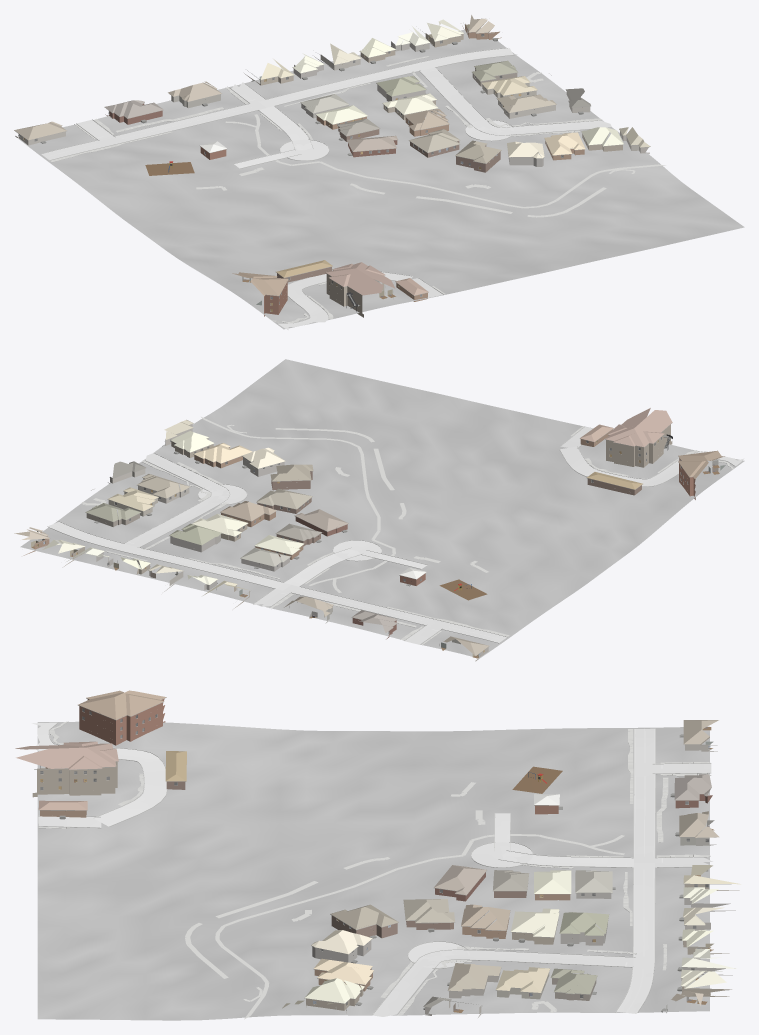
3 views of the same model, one above another, from view 1: azimuth 30°, elevation 25°; view 2: azimuth 150°, elevation 25°; view 3: azimuth 270°, elevation 25° (orthographic). The views are drawn at different scales.
Visible parts, largest first — view 1: ground, roof, concrete, wall, walk, asphalt, detail, curb, wall_stucco, wall_stone; view 2: ground, roof, concrete, wall, asphalt, walk, curb, detail, wall_stone, wall_stucco, room; view 3: ground, roof, concrete, wall, asphalt, walk, detail, curb, wall_stone, wall_stucco.
Boxes of the visible parts, x1,y1,x2,y2 form: ground: (18,28,744,329); roof: (14,15,650,295); concrete: (77,67,611,330); wall: (105,24,622,317); walk: (50,56,665,322); asphalt: (41,48,513,160); detail: (14,24,650,311); curb: (41,48,611,323); wall_stucco: (15,54,649,153); wall_stone: (293,41,543,166); ground: (20,359,744,658); roof: (14,408,724,655); concrete: (124,427,744,644); wall: (23,424,695,639); asphalt: (47,522,506,642); walk: (82,417,733,644); curb: (47,426,735,645); detail: (35,423,719,655); wall_stone: (96,457,289,590); wall_stucco: (108,424,488,661); room: (31,441,725,658); ground: (37,721,709,1020); roof: (15,690,740,1008); concrete: (32,722,712,1016); wall: (32,699,731,1010); asphalt: (616,728,655,1013); walk: (38,721,710,1019); detail: (34,697,731,1012); curb: (38,721,711,1014); wall_stone: (312,893,735,975); wall_stucco: (346,744,739,1017).
Size of the model in its own units: 257 by 18.85 by 272.
